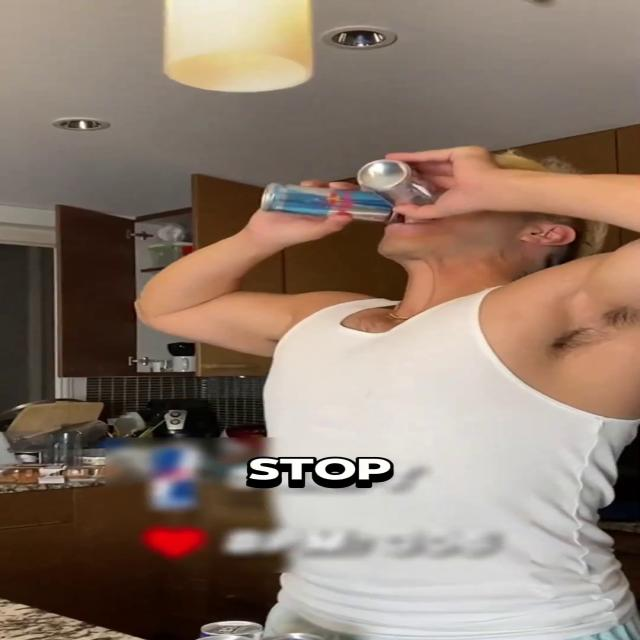Can: (270, 182, 385, 221), (361, 162, 444, 213)
Hand: (350, 136, 511, 225), (237, 177, 360, 238)
Mouth: (382, 207, 470, 229)
